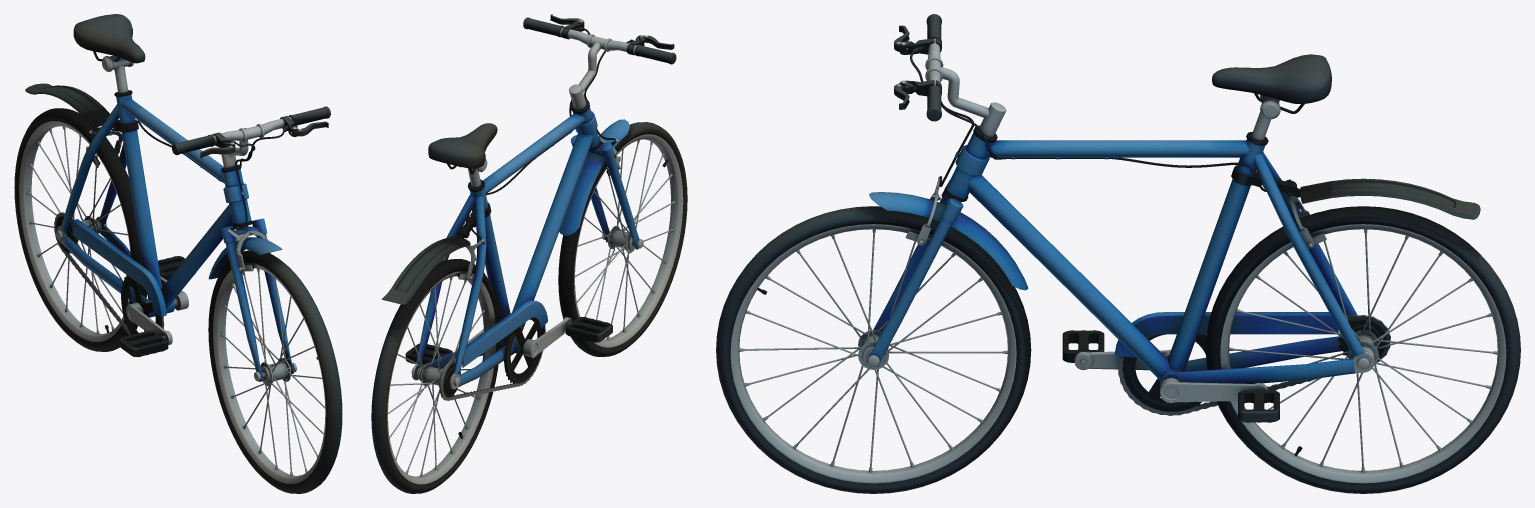
The model's file is biycle.fbx.
The picture shows the model from 3 angles, left to right: view 1: azimuth 30°, elevation 25°; view 2: azimuth 150°, elevation 25°; view 3: azimuth 270°, elevation 25°; orthographic projection. The views are drawn at different scales.
Visible parts, largest first — view 1: node_id29; view 2: node_id29; view 3: node_id29.
Boxes of the visible parts, box(x1,y1,x2,y2) form: node_id29: box(14, 14, 342, 493); node_id29: box(371, 14, 687, 493); node_id29: box(716, 14, 1520, 493).
Size of the model in its own units: 0.241 by 0.512 by 0.8643.
1 material, 1 textured.
